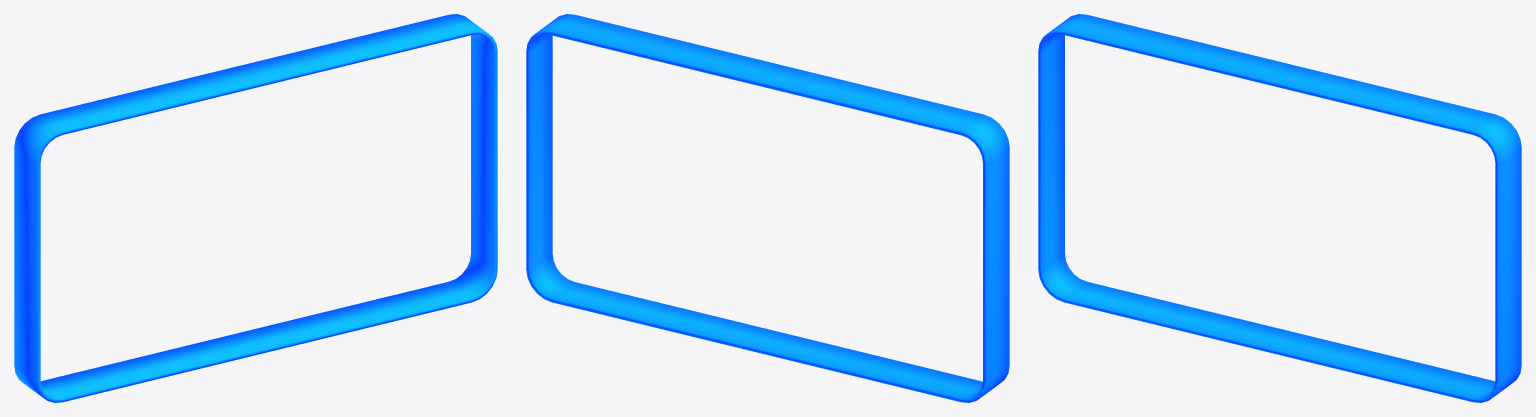
Rendered from Blue.glb.
3 renders of one model, left to right at view 1: azimuth 30°, elevation 25°; view 2: azimuth 150°, elevation 25°; view 3: azimuth 330°, elevation 25°, orthographic.
Visible parts, largest first — view 1: Plane; view 2: Plane; view 3: Plane.
Part boxes in pixels (x1,y1,x2,y2): Plane: (14,14,497,402); Plane: (526,14,1009,402); Plane: (1038,14,1521,402).
Size of the model in its own units: 3.56 by 2 by 0.3.
